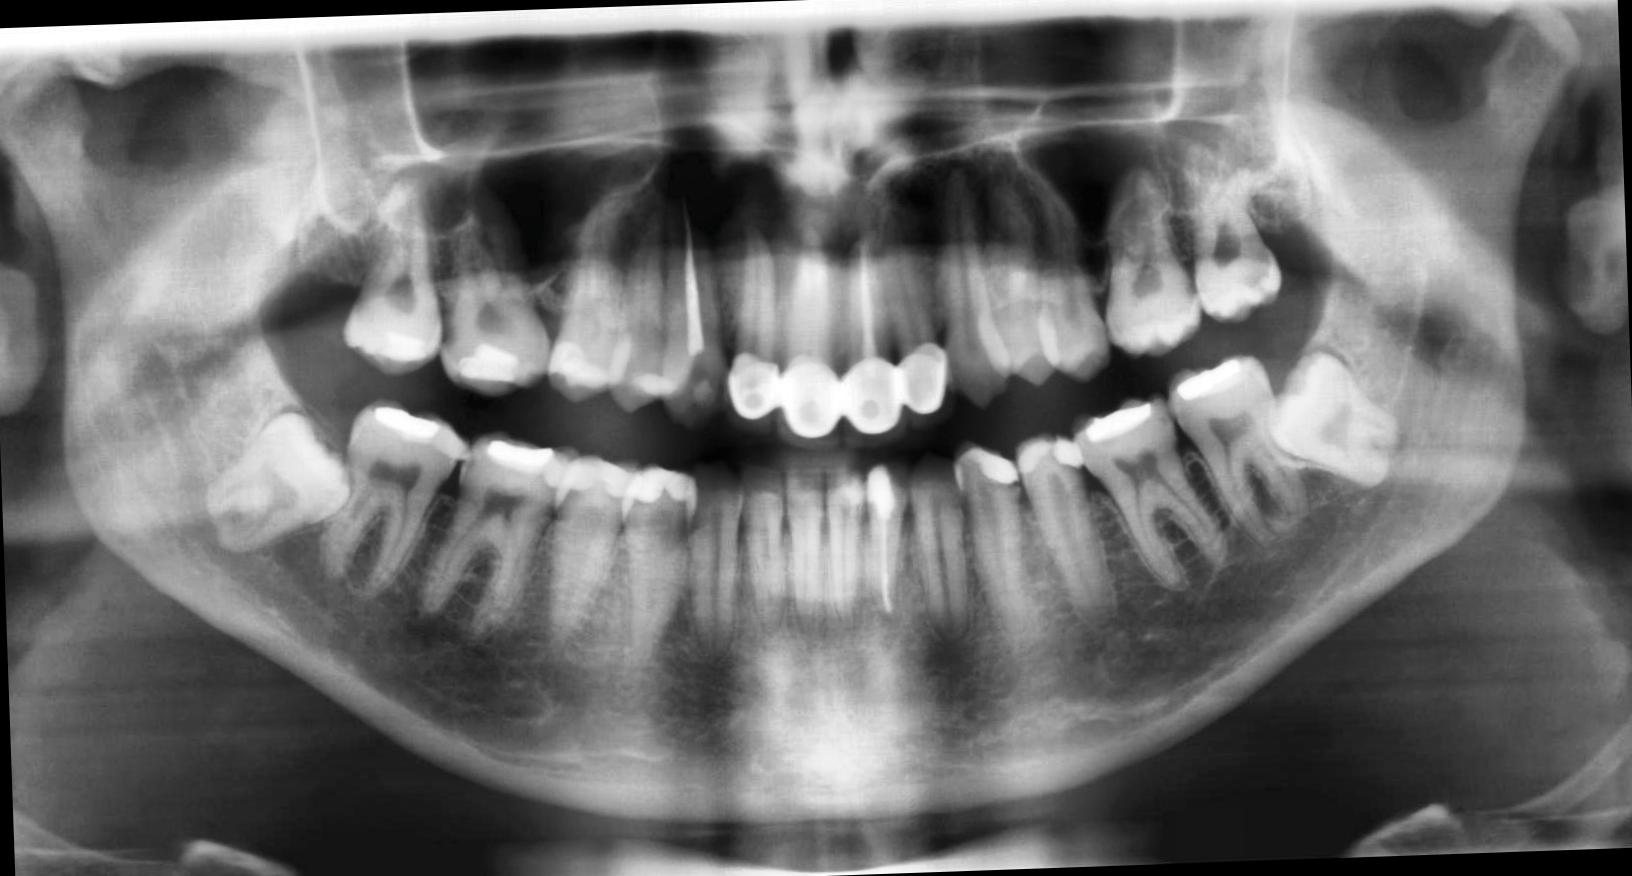radikuler: (597, 120, 807, 285)
